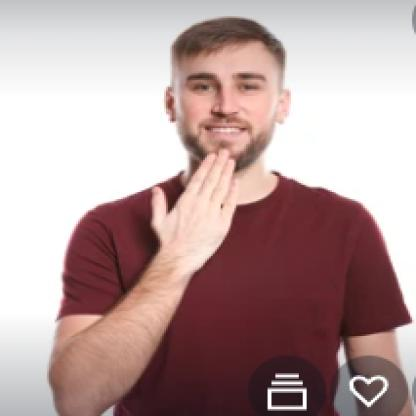thankyou: (139, 132, 262, 274)
